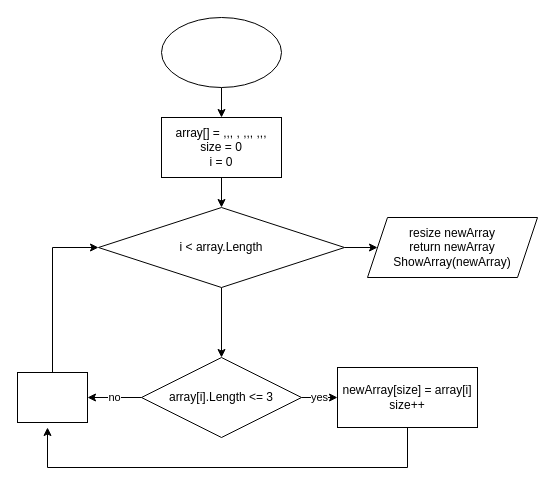
Image size: 555x493. Some labels were removed from this diagram. Each missing label, with the box of its shape:
i++: (16, 372, 88, 422)
START: (160, 16, 282, 88)
